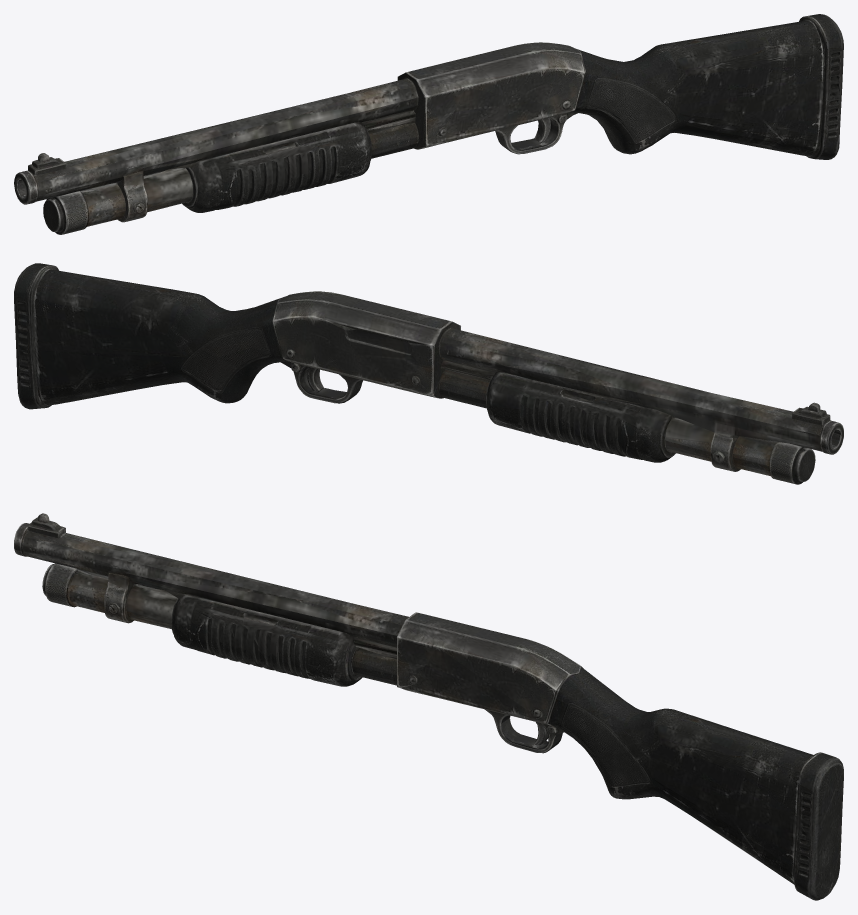
Rendered from shotgun.glb.
3 renders of one model, top to bottom at view 1: azimuth 30°, elevation 25°; view 2: azimuth 150°, elevation 25°; view 3: azimuth 330°, elevation 25°, orthographic.
Visible parts, largest first — view 1: Mesh_0; view 2: Mesh_0; view 3: Mesh_0.
Boxes of the visible parts, <box> form: Mesh_0: <box>14,14,843,234</box>; Mesh_0: <box>14,263,843,484</box>; Mesh_0: <box>14,513,843,900</box>.
Bounding box in the file's own units: 1.9 × 0.4329 × 0.1301.
Materials: 1 (1 with a texture image).
